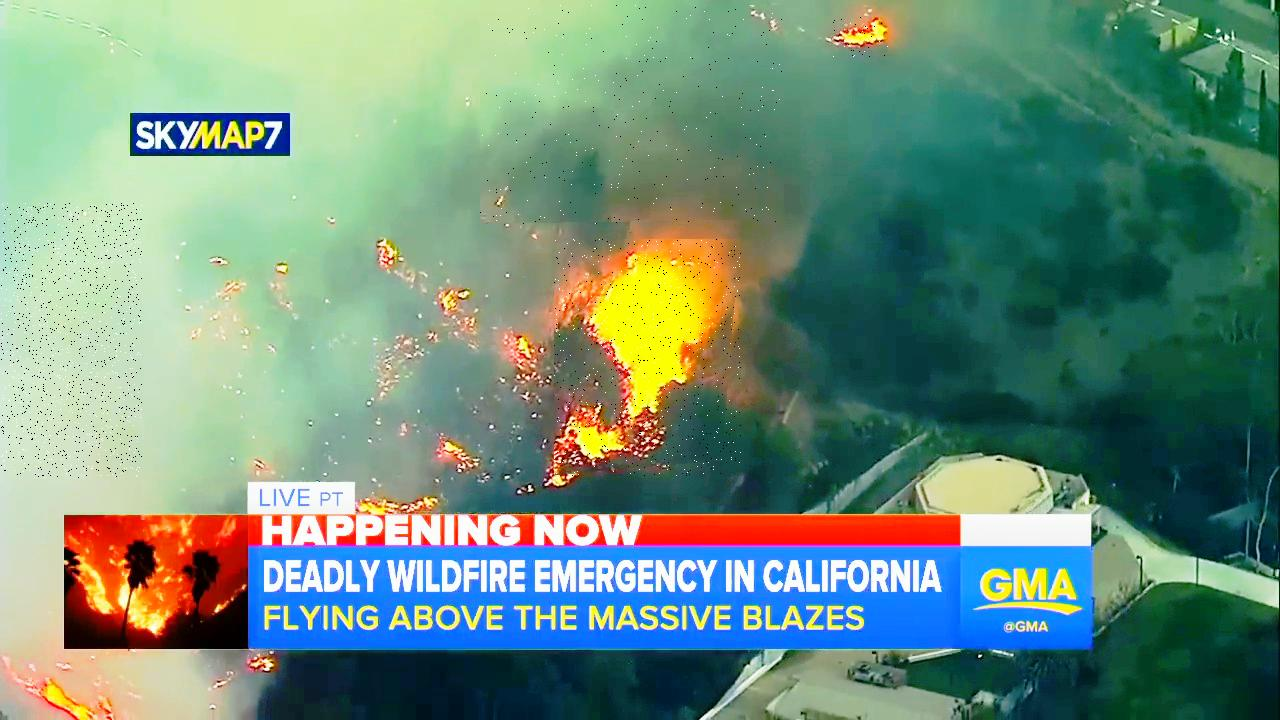fire: (554, 239, 741, 477), (832, 17, 888, 57)
smoke: (480, 5, 783, 224), (1, 203, 142, 478)
